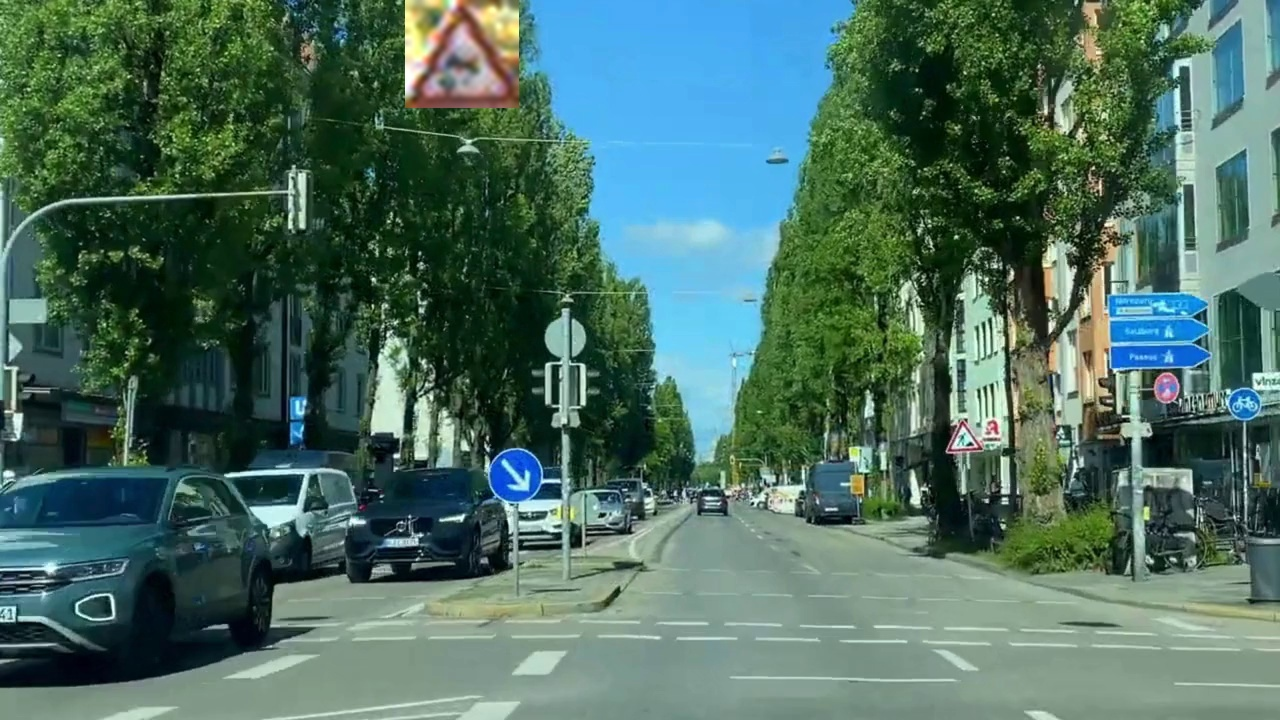Slippery: (405, 0, 519, 108)
